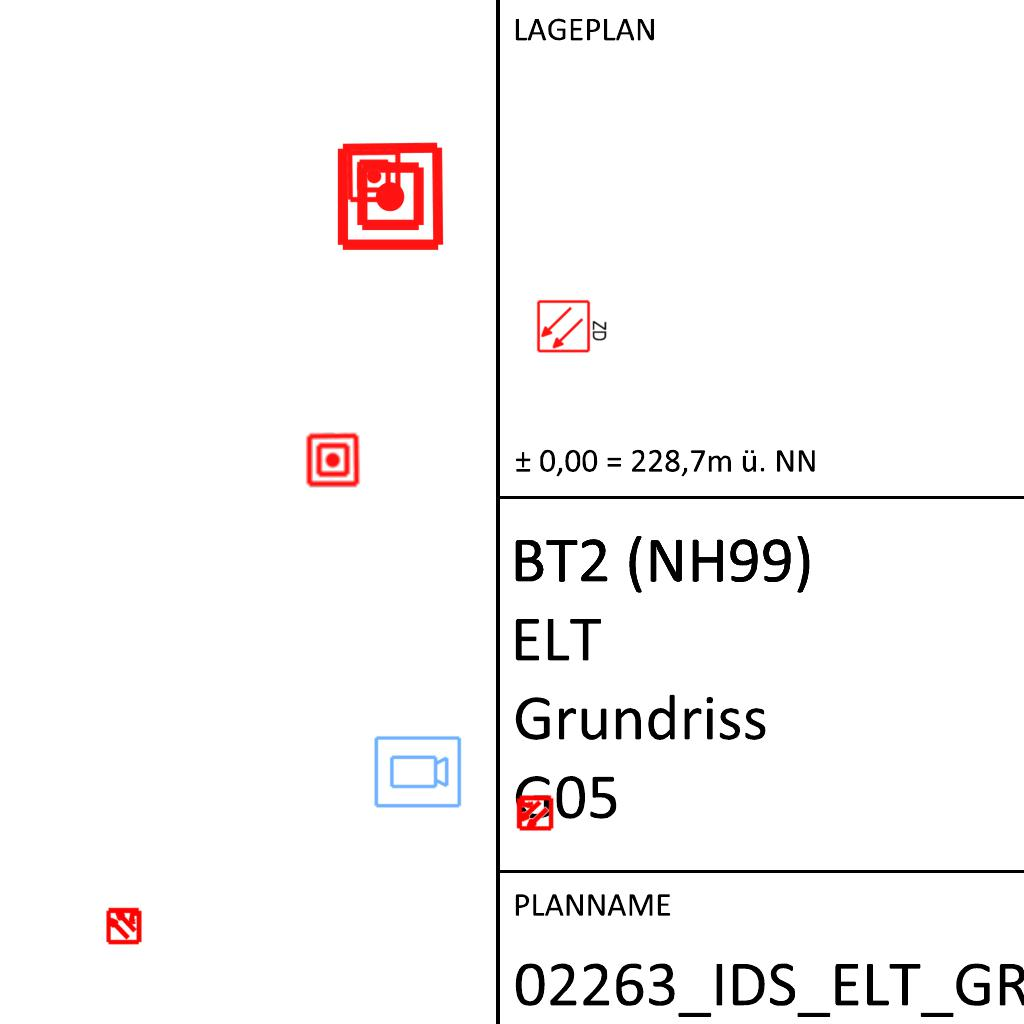KFO_Kamera_mit_Festobjektiv: (372, 734, 463, 811)
NAM-Nichtautomatischer_Melder: (334, 140, 447, 253), (305, 432, 361, 488), (346, 148, 402, 204)
OT_Multisensormelder_(Kombination_RMO_WMD): (505, 784, 563, 842), (96, 897, 152, 953)
ZD_Melder_in_Zwischendecke_mit_Revisionsoeffnung_mind_40_x_40_cm: (536, 297, 610, 354)
